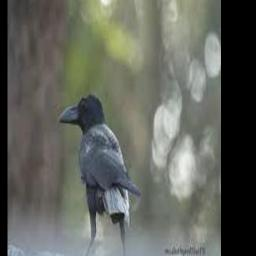Crow: (58, 94, 142, 256)
